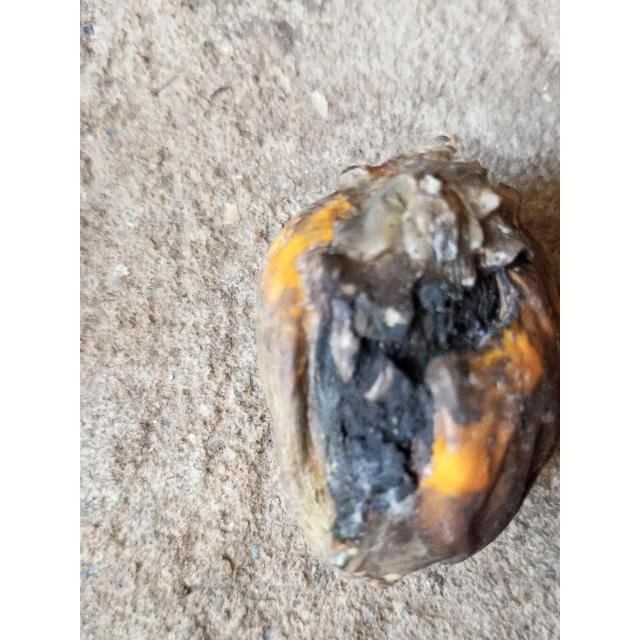damaged: (255, 142, 560, 588)
